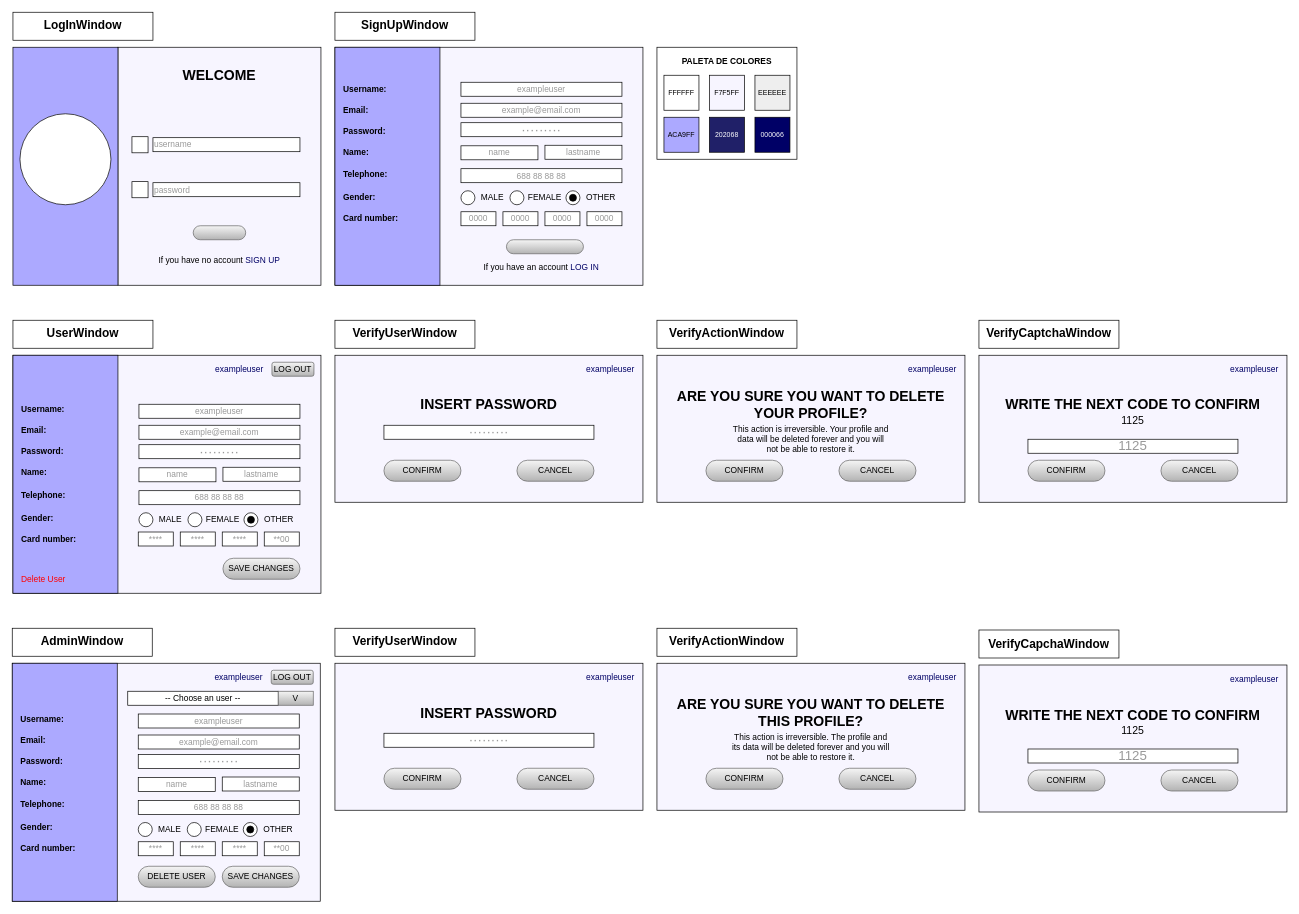
The diagram is 1299 pixels wide and 914 high, and some of its shapes have lost their labels. The centre of each missing label's shape, as x and y in pixels:
LOG IN: point (219, 232)
LOGO: point (65, 159)
SIGN UP: point (544, 246)
